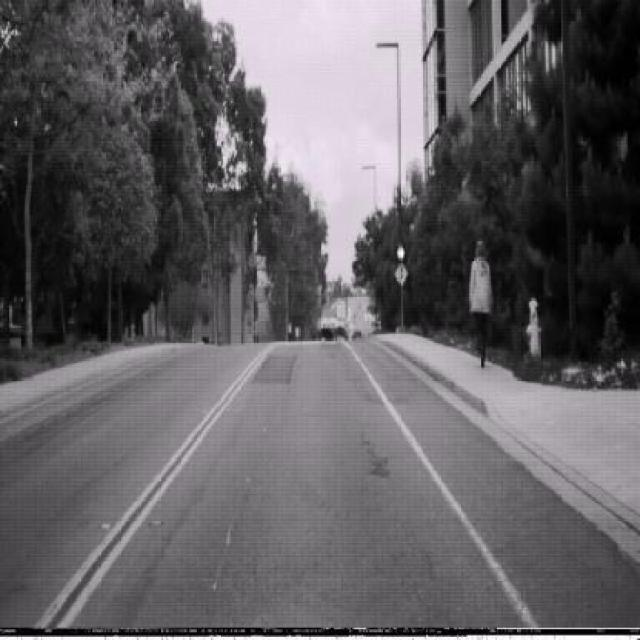pedestrianCrossing: (394, 260, 407, 287)
